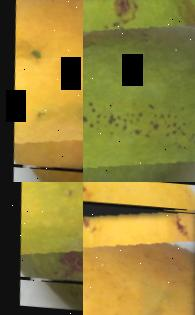PartiallyRipe: (1, 182, 83, 290)
Ripe: (0, 0, 83, 175), (83, 200, 195, 315)
Unripe: (83, 0, 195, 182)
